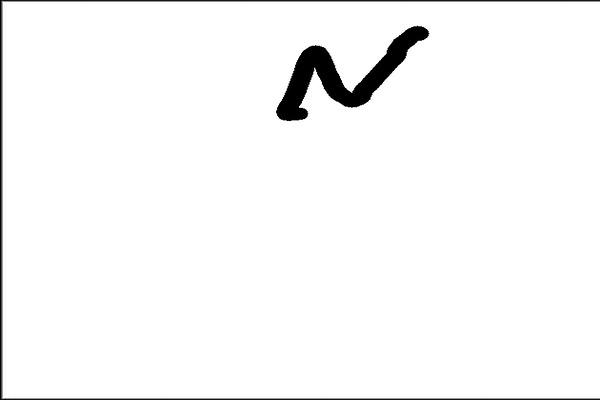N: (275, 21, 432, 123)
